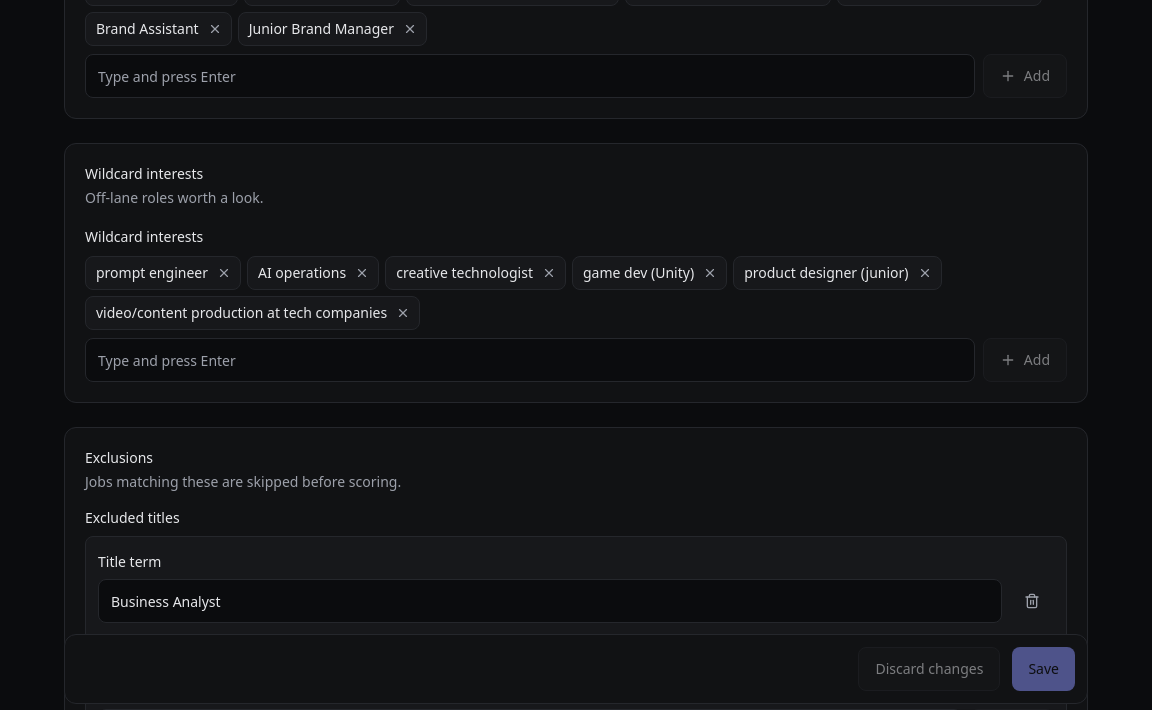
it: Criteria form › disables Save until something changes
The width and height of the screenshot is (1152, 710).
(page scrolled)
Check: the button "Save" is disabled, box [1012,647,1075,691]
Type "sales engineer" into the field labelled "Wildcard interests".
click(530, 360); type("sales engineer")  # box [85,338,975,382]
Then press Enter
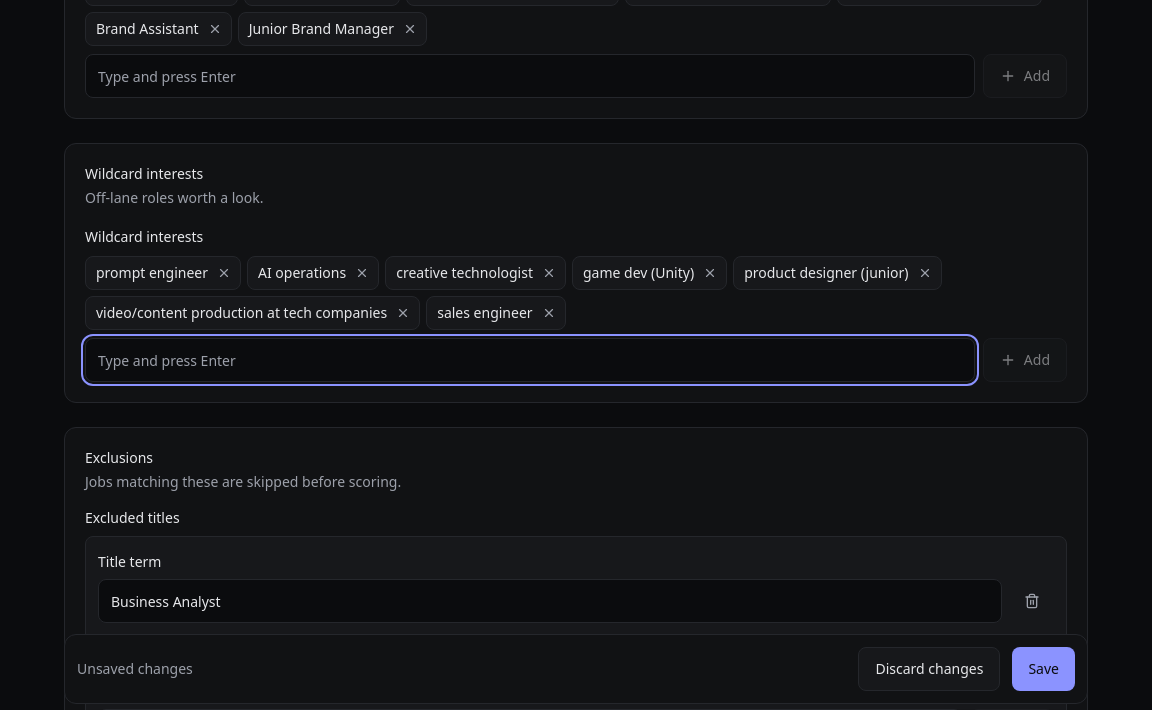
Check: the button "Save" is enabled, box [1012,647,1075,691]
Click the button "Discard changes".
click(930, 669)  # box [858,647,1000,691]
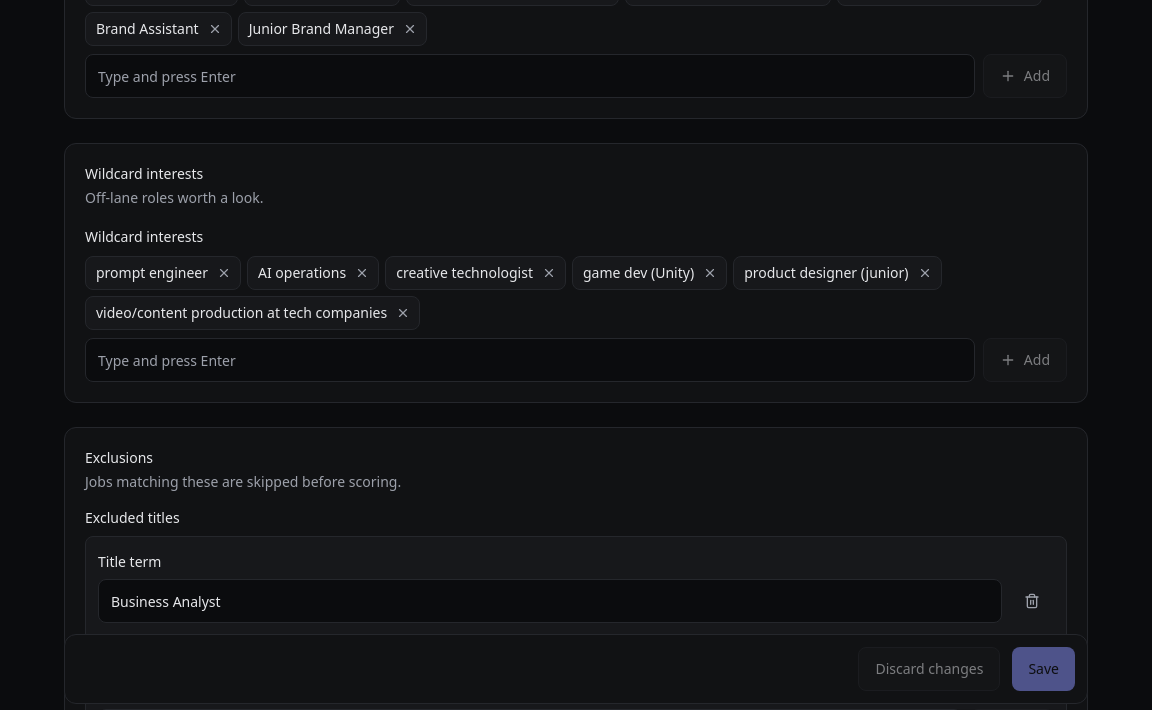
Check: the button "Save" is disabled, box [1012,647,1075,691]
Check: the text "sales engineer" is gone
